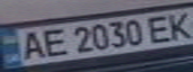0: (124, 16, 148, 47), (90, 20, 112, 52)
2: (69, 22, 93, 55)
3: (109, 19, 130, 48)
A: (15, 28, 48, 62)
E: (142, 12, 178, 44), (36, 26, 69, 59)
K: (163, 9, 193, 40)
